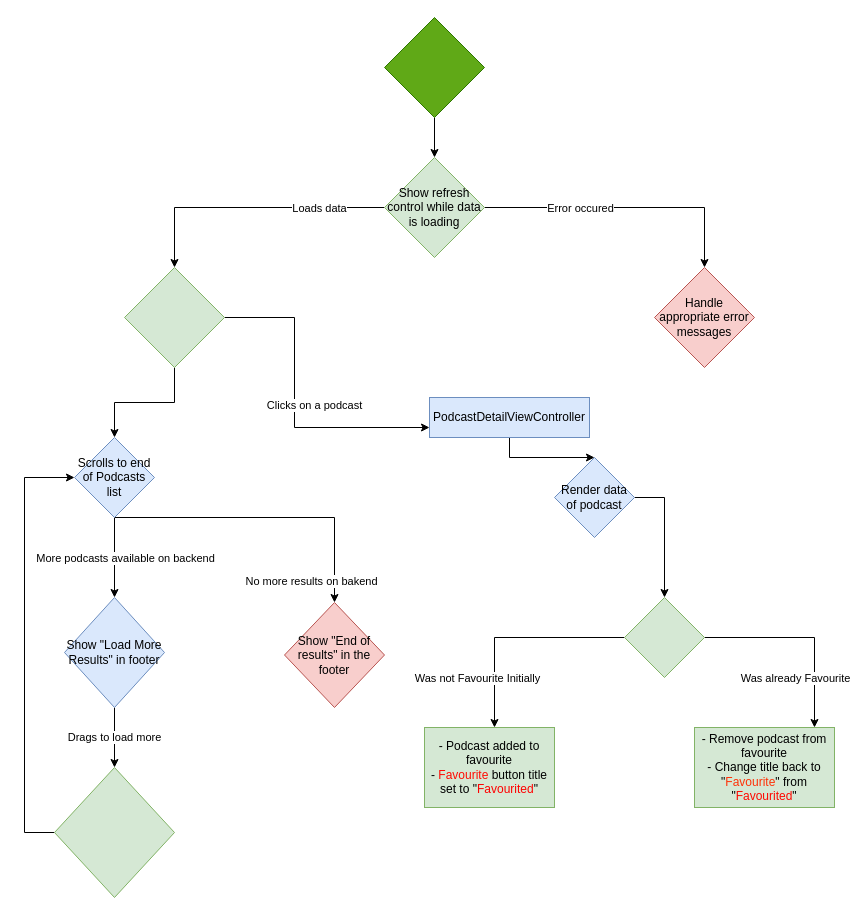
The diagram is 867 pixels wide and 915 high, and some of its shapes have lost their labels. The box of each missing label's shape, as (x1, y1, x2, y2) in pixels:
Clicks Favourite Button: (624, 596, 704, 678)
Get next 10 results from server and show on the screen: (54, 766, 174, 898)
Show loaded data on UITableView: (124, 266, 224, 368)
User launches app: (384, 16, 484, 118)
